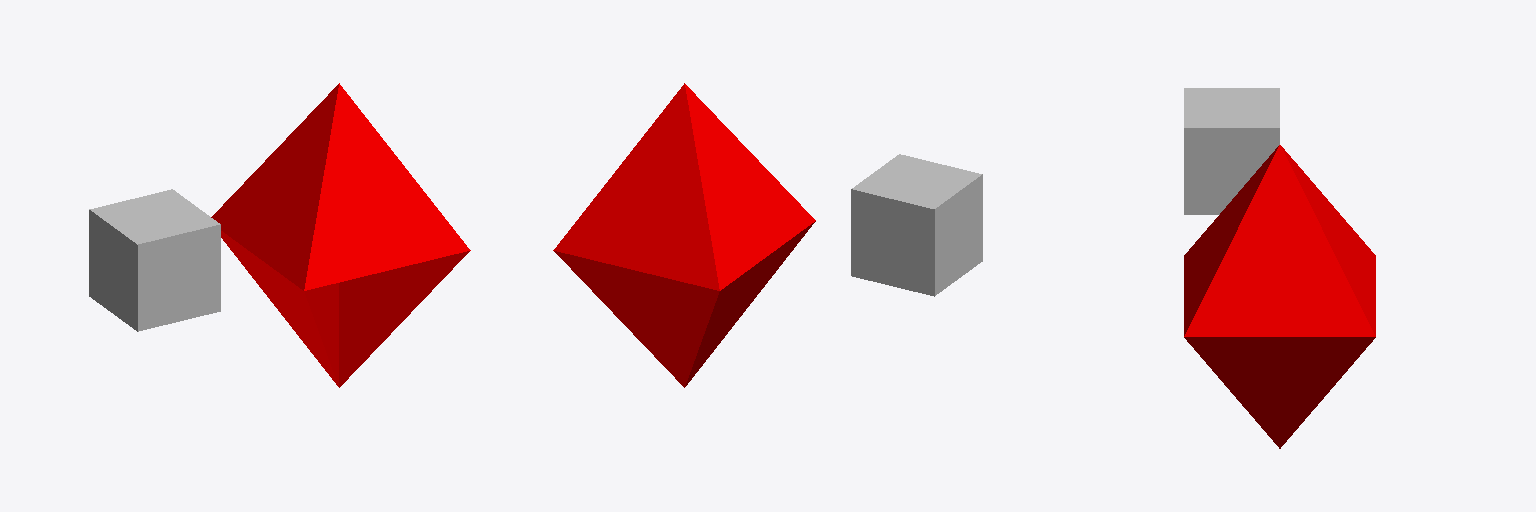
The model's file is two_objs.obj.
3 renders of one model, left to right at view 1: azimuth 30°, elevation 25°; view 2: azimuth 150°, elevation 25°; view 3: azimuth 270°, elevation 25°, orthographic.
Parts seen in each view (by area): view 1: diamond, cube; view 2: diamond, cube; view 3: diamond, cube.
Boxes of the visible parts, x1,y1,x2,y2 form: diamond: [211, 83, 470, 387]; cube: [89, 189, 220, 331]; diamond: [553, 83, 815, 387]; cube: [851, 154, 982, 296]; diamond: [1184, 145, 1375, 448]; cube: [1184, 88, 1279, 214].
Size of the model in its own units: 4 by 3.5 by 2.